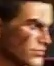kevin: (5, 0, 53, 65)
